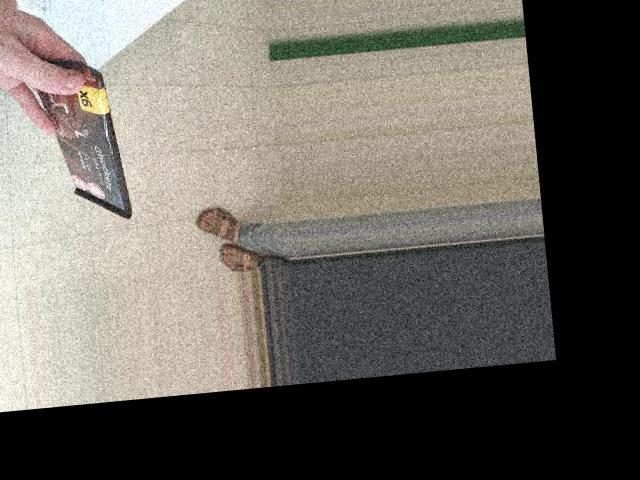chocolate: (20, 39, 144, 234)
